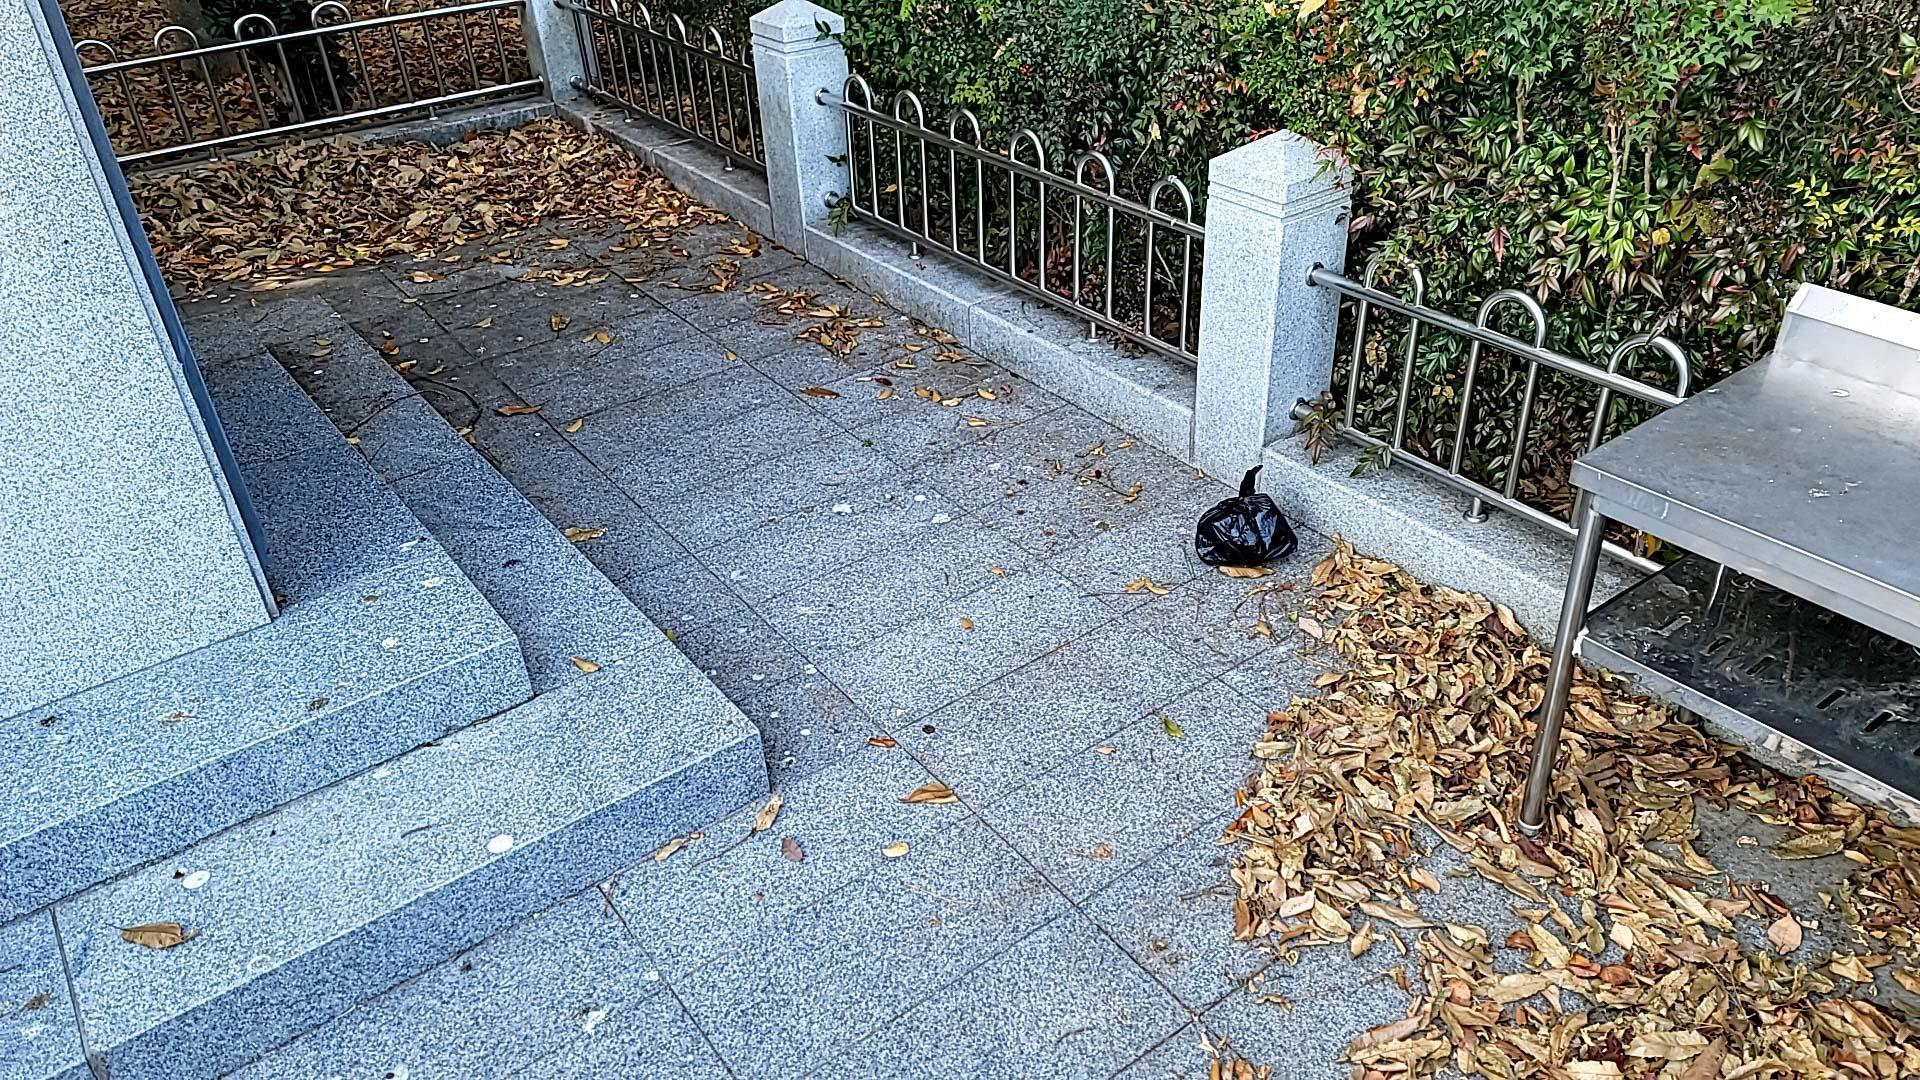black_bag: (1193, 460, 1303, 579)
